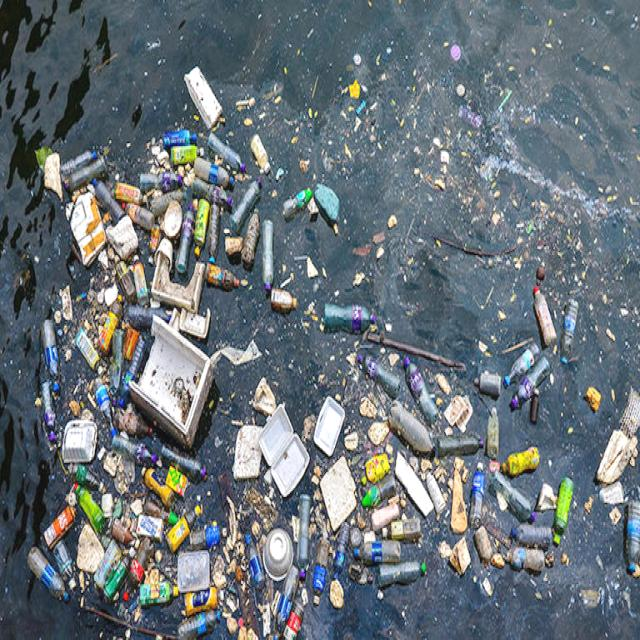plastic watse: (130, 319, 212, 448), (234, 406, 309, 496), (99, 297, 144, 390), (395, 455, 445, 514), (511, 356, 549, 421), (207, 133, 245, 174), (62, 421, 97, 463), (178, 551, 210, 592)
